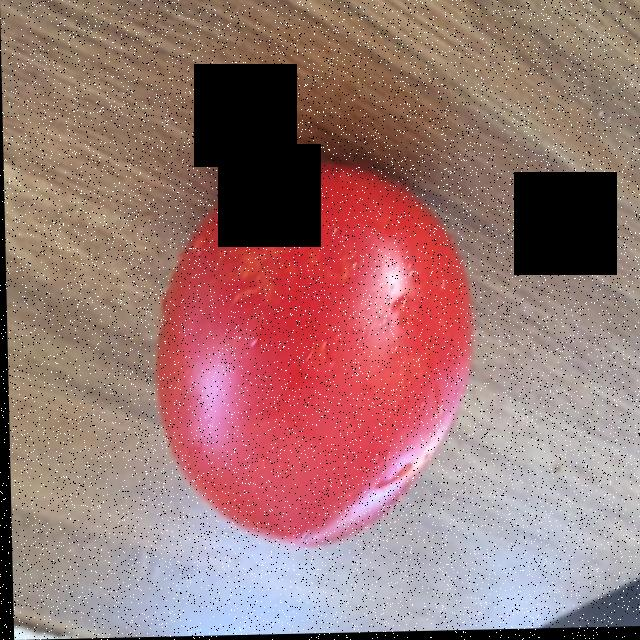egg: (159, 177, 471, 540)
